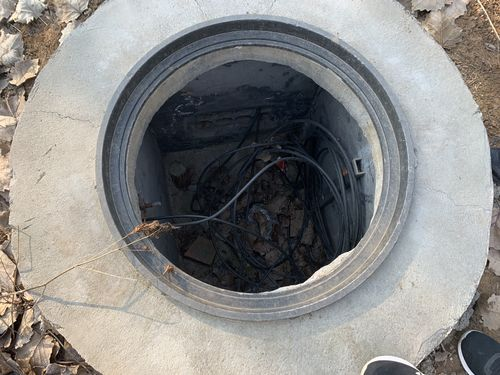lose: (31, 5, 485, 367)
